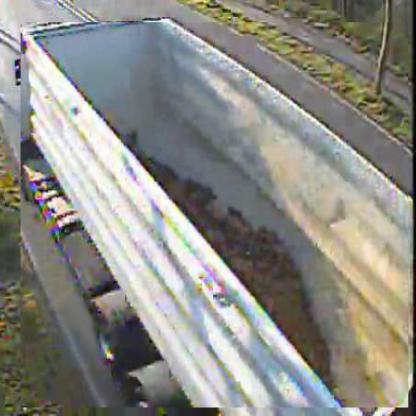truck: (21, 23, 409, 410)
